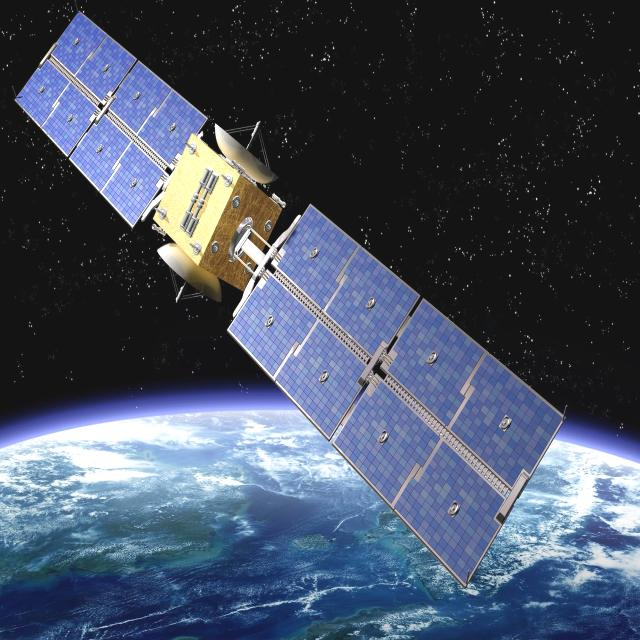medium_debris: (18, 13, 564, 585)
